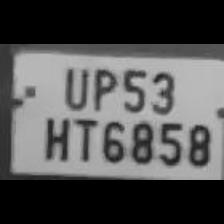3: (146, 67, 178, 113)
5: (156, 116, 184, 166), (117, 65, 147, 111)
6: (96, 116, 126, 164)
8: (127, 116, 154, 166), (183, 118, 211, 166)
H: (38, 111, 70, 160)
P: (88, 63, 116, 111)
T: (69, 114, 97, 162)
U: (58, 62, 90, 110)
